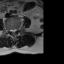CCS_normal: (12, 27, 14, 35)
LFS_normal: (16, 26, 18, 32)
LLS_normal: (14, 26, 16, 34)
RFS_normal: (8, 27, 10, 33)
RLS_normal: (10, 27, 12, 34)
